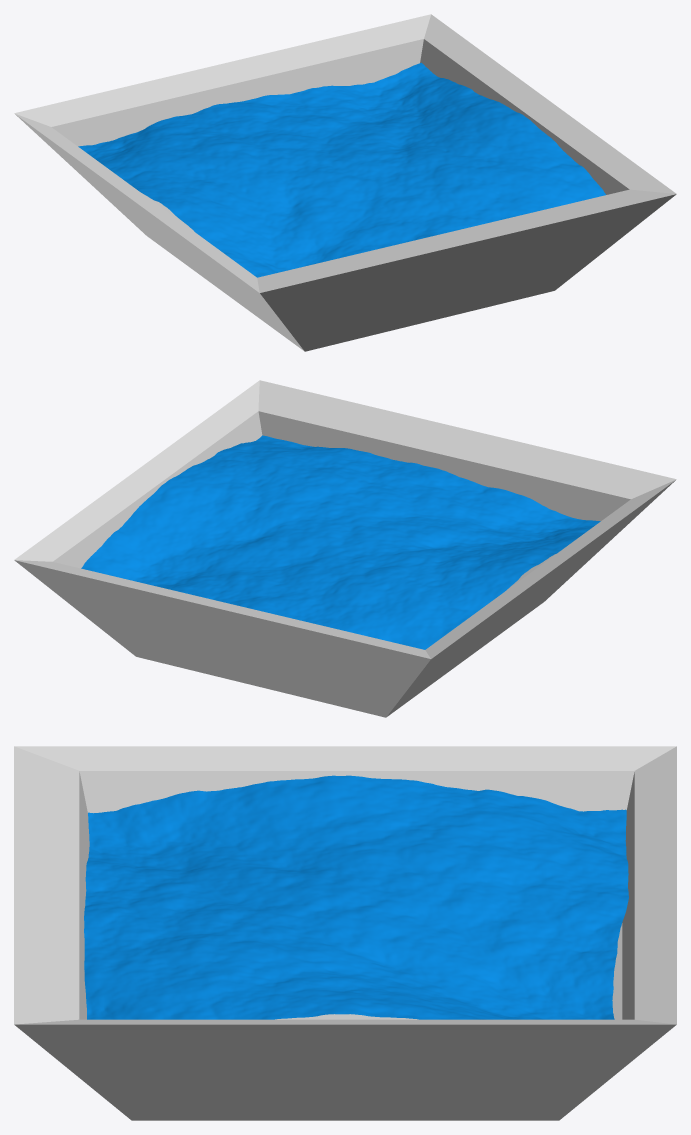
Rendered from Water2.fbx.
The picture shows the model from 3 angles, top to bottom: view 1: azimuth 30°, elevation 25°; view 2: azimuth 150°, elevation 25°; view 3: azimuth 270°, elevation 25°; orthographic projection. The views are drawn at different scales.
Parts seen in each view (by area): view 1: Cube, Plane; view 2: Cube, Plane; view 3: Plane, Cube.
Part boxes in pixels (box(x1,y1,x2,y2)): Cube: box(14, 14, 676, 351); Plane: box(78, 62, 605, 277); Cube: box(14, 380, 676, 717); Plane: box(81, 435, 600, 649); Plane: box(84, 775, 628, 1019); Cube: box(14, 746, 676, 1120).
Size of the model in its own units: 43443 by 11168 by 44317.
